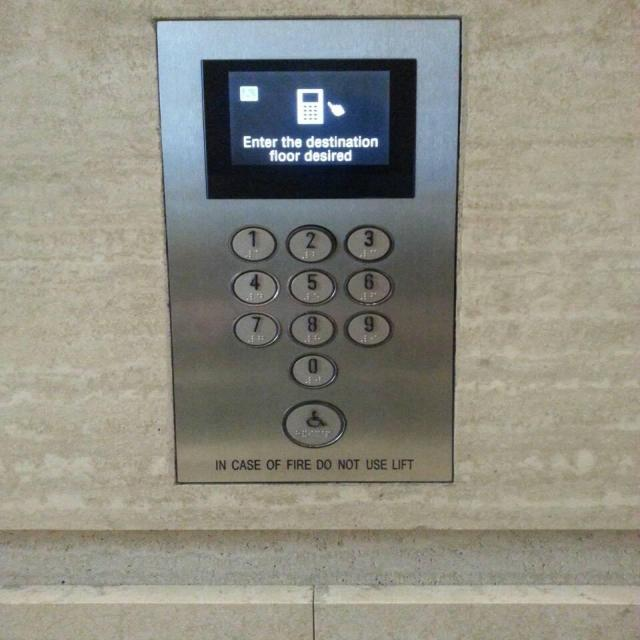0: (288, 352, 339, 388)
1: (230, 226, 276, 261)
2: (285, 225, 335, 262)
3: (343, 224, 394, 262)
4: (230, 270, 280, 306)
5: (286, 268, 336, 306)
6: (343, 268, 395, 306)
7: (230, 310, 278, 346)
8: (287, 311, 338, 347)
9: (342, 310, 394, 348)
CH: (280, 400, 347, 450)
